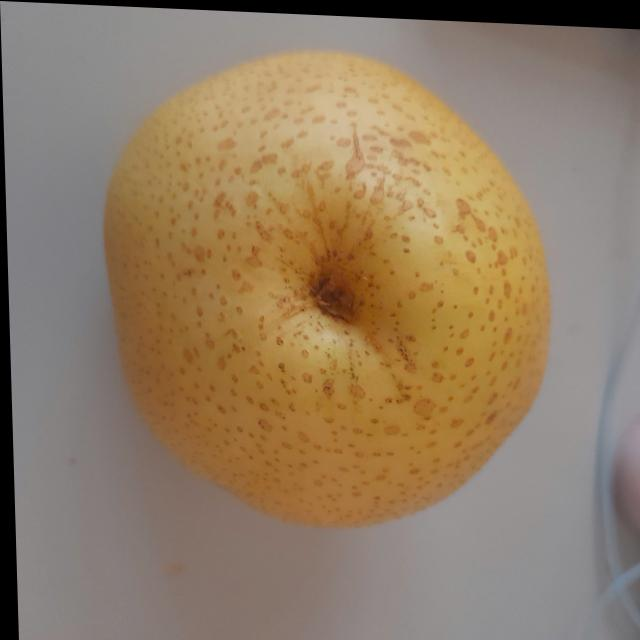Le: (83, 34, 562, 537)
